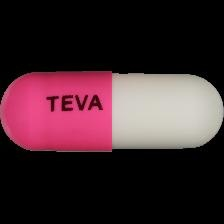0093-7372: (0, 0, 224, 224)
